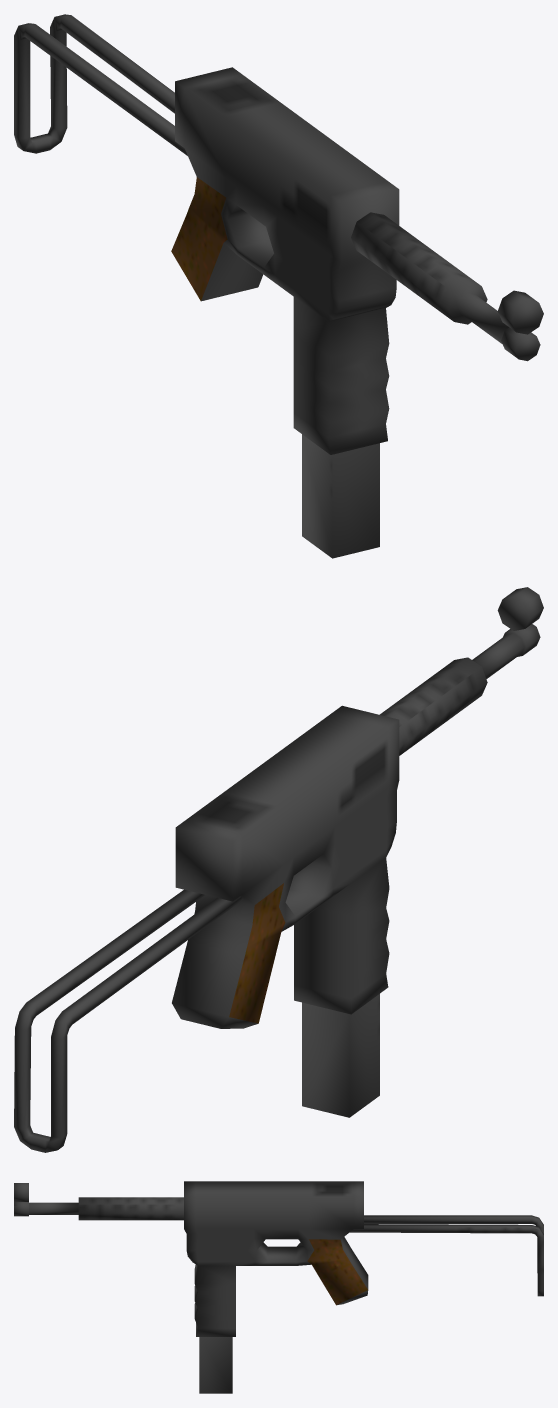
The model's file is SMG.obj.
3 renders of one model, top to bottom at view 1: azimuth 30°, elevation 25°; view 2: azimuth 150°, elevation 25°; view 3: azimuth 270°, elevation 25°, orthographic. The views are drawn at different scales.
Visible parts, largest first — view 1: Icosphere; view 2: Icosphere; view 3: Icosphere.
Part boxes in pixels (bbox=[...]): Icosphere: bbox=[14, 14, 543, 558]; Icosphere: bbox=[14, 587, 543, 1152]; Icosphere: bbox=[14, 1181, 543, 1393].
Bounding box in the file's own units: 0.022 × 0.1382 × 0.3254.
2 materials, 2 textured.
